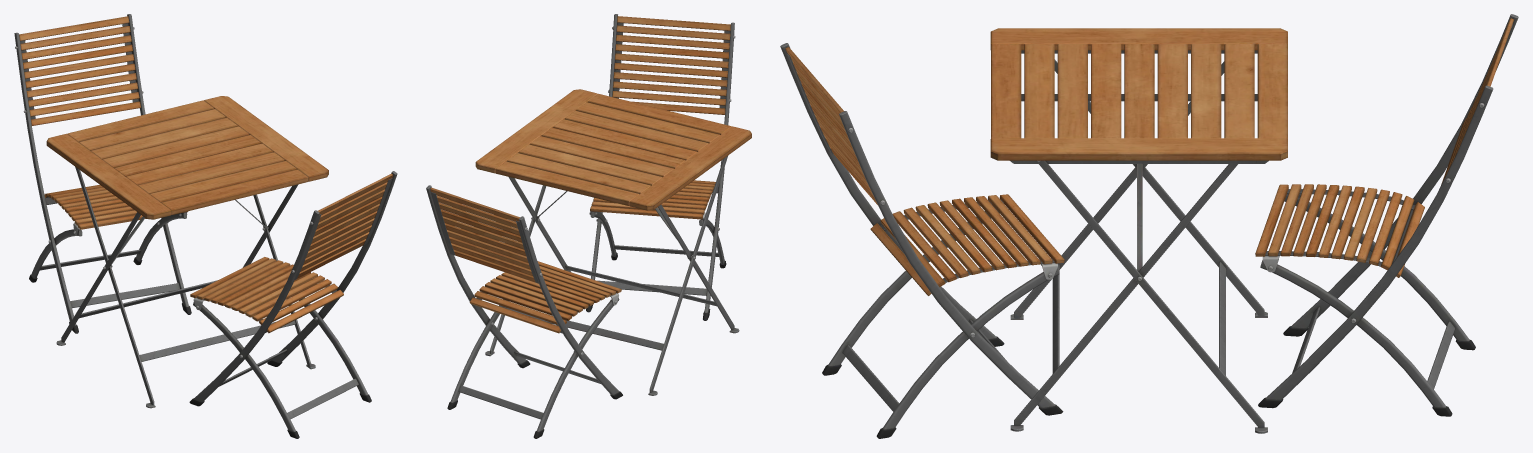
The model's file is outdoor_table_chair_set_01.gltf.
The picture shows the model from 3 angles, left to right: view 1: azimuth 30°, elevation 25°; view 2: azimuth 150°, elevation 25°; view 3: azimuth 270°, elevation 25°; orthographic projection. The views are drawn at different scales.
Visible parts, largest first — view 1: outdoor_table_chair_set_01_table, outdoor_table_chair_set_01_chair_02, outdoor_table_chair_set_01_chair_01; view 2: outdoor_table_chair_set_01_table, outdoor_table_chair_set_01_chair_02, outdoor_table_chair_set_01_chair_01; view 3: outdoor_table_chair_set_01_table, outdoor_table_chair_set_01_chair_01, outdoor_table_chair_set_01_chair_02.
Part boxes in pixels (x1,y1,x2,y2): outdoor_table_chair_set_01_table: [46, 96, 328, 408]; outdoor_table_chair_set_01_chair_02: [14, 14, 191, 333]; outdoor_table_chair_set_01_chair_01: [189, 171, 397, 438]; outdoor_table_chair_set_01_table: [475, 89, 751, 395]; outdoor_table_chair_set_01_chair_02: [426, 185, 622, 438]; outdoor_table_chair_set_01_chair_01: [586, 14, 735, 320]; outdoor_table_chair_set_01_table: [990, 28, 1287, 433]; outdoor_table_chair_set_01_chair_01: [780, 43, 1064, 438]; outdoor_table_chair_set_01_chair_02: [1255, 14, 1518, 416].
Size of the model in its own units: 0.7417 by 0.8586 by 1.72.
Materials: 2 (2 with a texture image).
